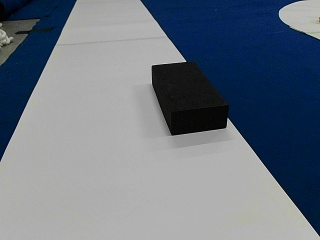block: (151, 61, 228, 134)
